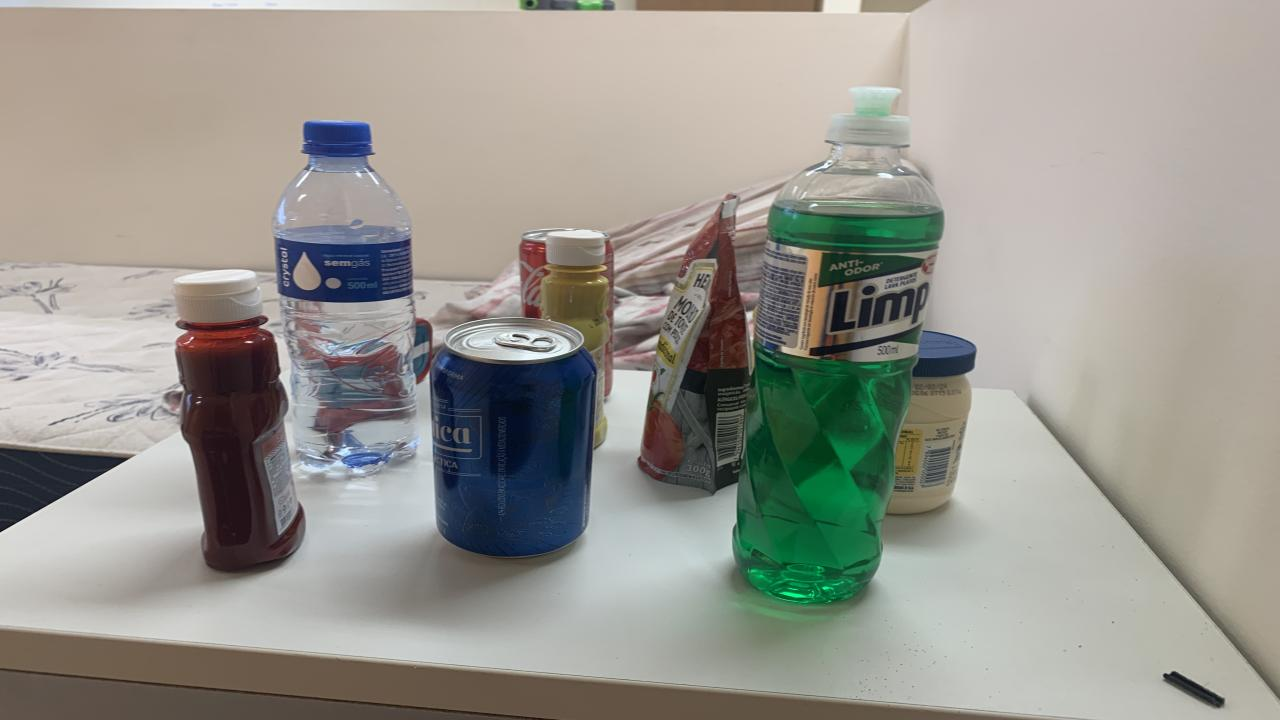Coke-Drinks: (518, 229, 562, 317)
Detergent-Cleanup_Items: (732, 86, 945, 604)
Ketchup-Pantry_Items: (172, 270, 305, 570)
Mayonnaise-Pantry_Items: (888, 332, 975, 514)
Mustard-Pantry_Items: (540, 231, 610, 375)
Tomato_Sauce-Pantry_Items: (638, 195, 750, 493)
Tonic-Drinks: (430, 317, 598, 557)
Tuna_Can-Pantry_Items: (412, 319, 432, 382)
Water_Bottle-Drinks: (272, 122, 420, 472)
